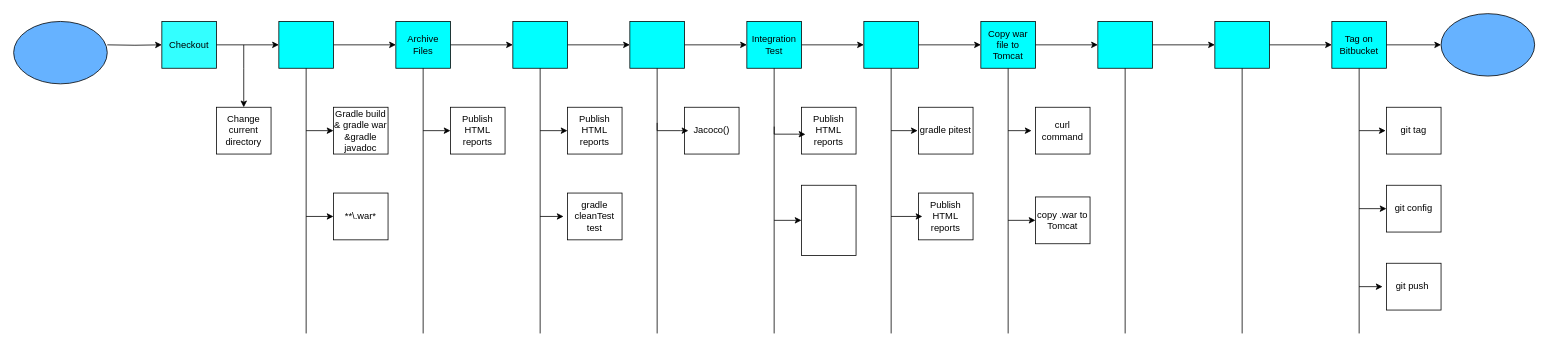
The diagram is 1548 pixels wide and 348 high, and some of its shapes have lost their labels. The centre of each missing label's shape, as x and y in pixels:
Build Project: (x=305, y=44)
Coverage Report: (x=656, y=44)
End workflow: (x=1487, y=44)
gradle cleanIntegr ationTest integrationT est: (x=828, y=219)
Manual Test: (x=1241, y=44)
Mutation Test: (x=890, y=44)
Send Mail: (x=1124, y=44)
Start workflow: (x=60, y=52)
Unit Tests: (x=539, y=44)
